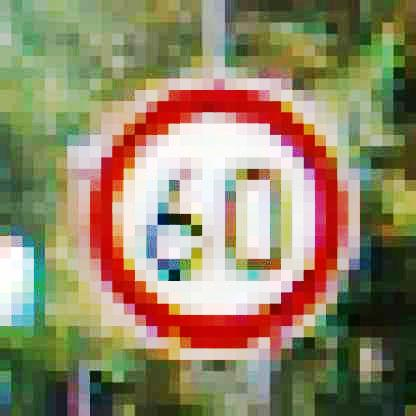Speed Limit -60-: (74, 75, 356, 361)
